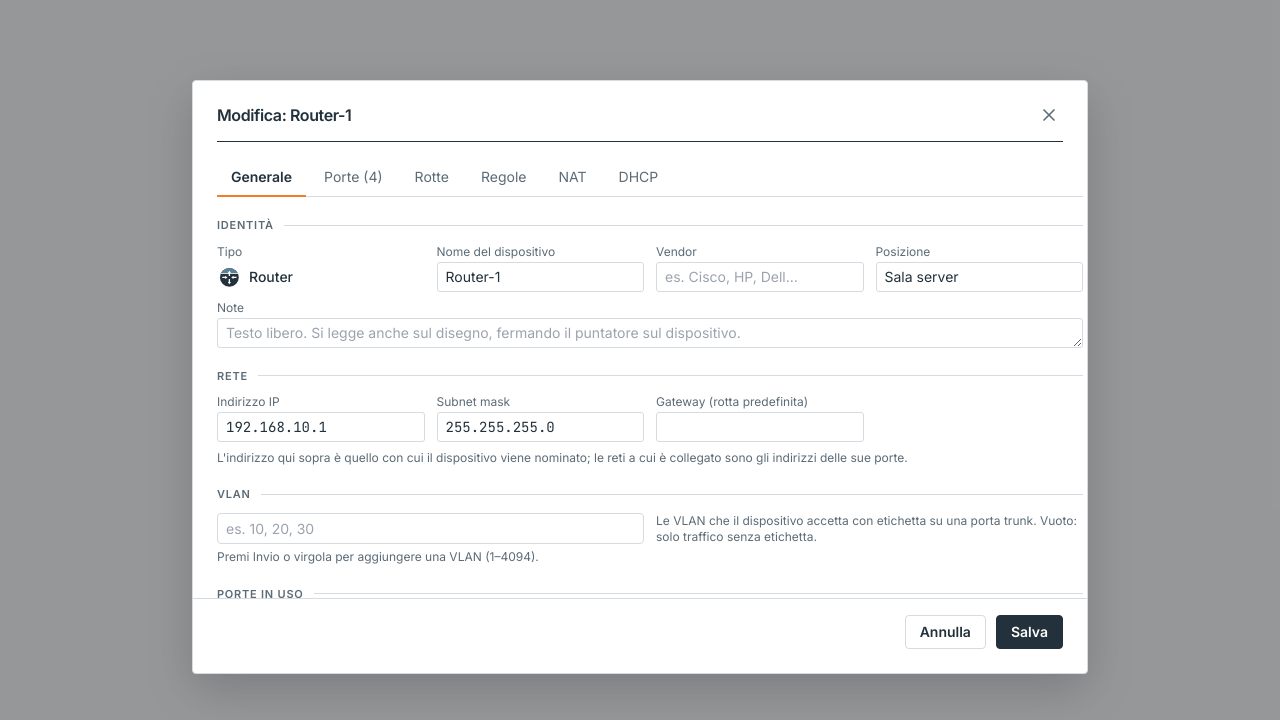
Test: InspectorModal — Rotte › says that the routes of a router without addressed ports are not used
Click the button "Rotte".
click(432, 178)  # box [401,158,463,197]
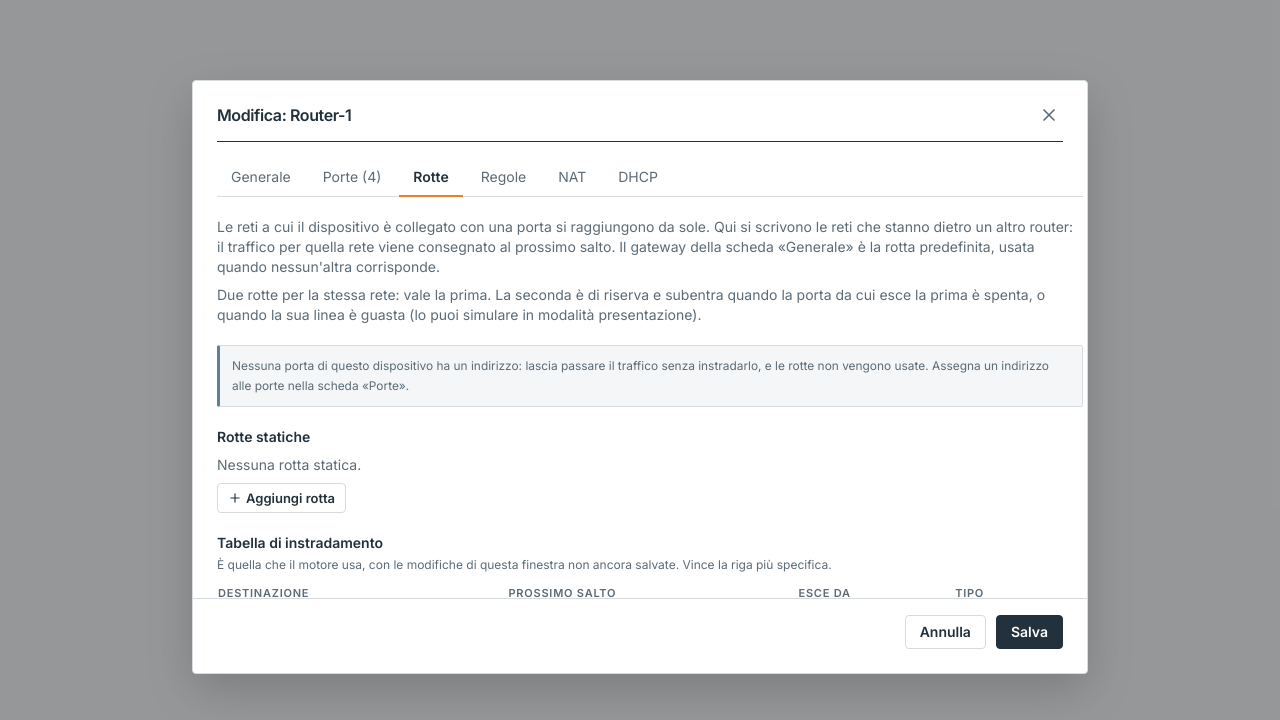
Now the text "Nessuna porta di questo dispositivo ha un indirizzo" is shown, box [232,358,1049,393]
